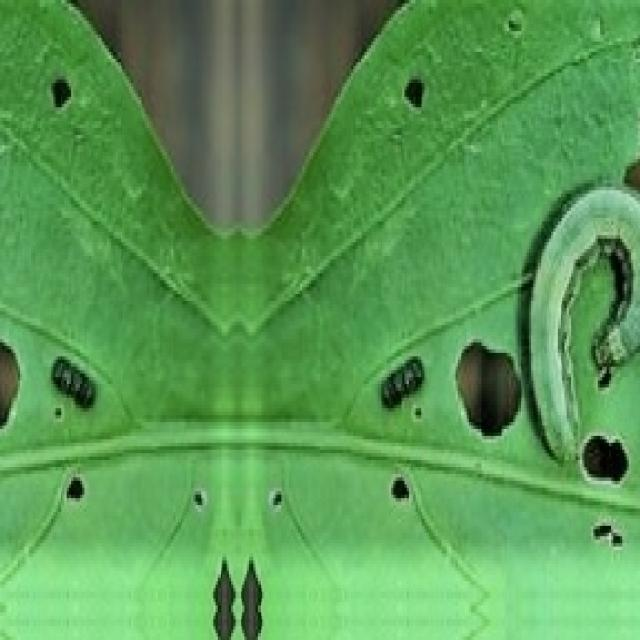armyworm: (530, 182, 640, 467)
